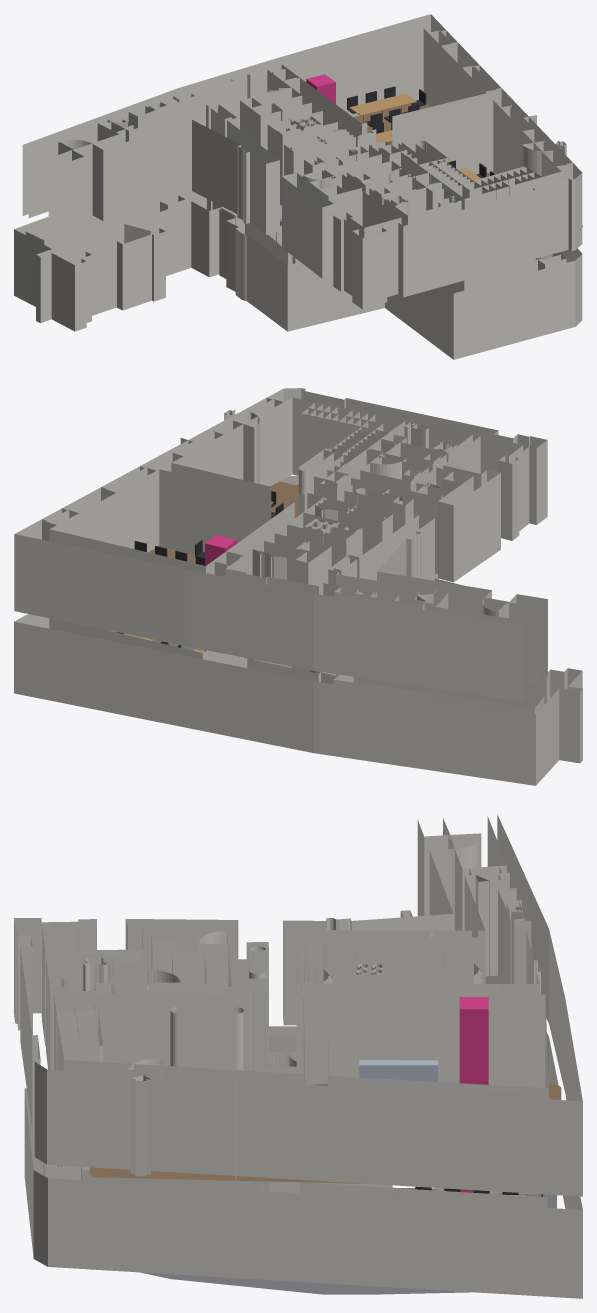
The model's file is modello_B.obj.
3 renders of one model, top to bottom at view 1: azimuth 30°, elevation 25°; view 2: azimuth 150°, elevation 25°; view 3: azimuth 270°, elevation 25°, orthographic. The views are drawn at different scales.
Parts seen in each view (by area): view 1: muri_terra, muri_int, tavolo_terra_0, montacarichi_vano, pavimento_terra; view 2: muri_terra, muri_int, pavimento_terra, montacarichi_vano; view 3: muri_terra, muri_int, pavimento_int, montacarichi_vano, pavimento_terra, servizio_terra.
Boxes of the visible parts, left/top/right/bottom form: muri_terra: left=22, top=14, right=582, bottom=309; muri_int: left=14, top=191, right=582, bottom=359; tavolo_terra_0: left=349, top=93, right=480, bottom=180; montacarichi_vano: left=306, top=74, right=335, bottom=104; pavimento_terra: left=353, top=102, right=582, bottom=227; muri_terra: left=14, top=388, right=547, bottom=701; muri_int: left=14, top=475, right=582, bottom=785; pavimento_terra: left=148, top=481, right=298, bottom=563; montacarichi_vano: left=205, top=535, right=236, bottom=650; muri_terra: left=14, top=814, right=582, bottom=1196; muri_int: left=24, top=910, right=582, bottom=1298; pavimento_int: left=140, top=1187, right=556, bottom=1294; montacarichi_vano: left=459, top=997, right=488, bottom=1192; pavimento_terra: left=89, top=1084, right=561, bottom=1183; servizio_terra: left=359, top=1060, right=437, bottom=1081.
Bounding box in the file's own units: 19.55 × 6 × 15.68.
